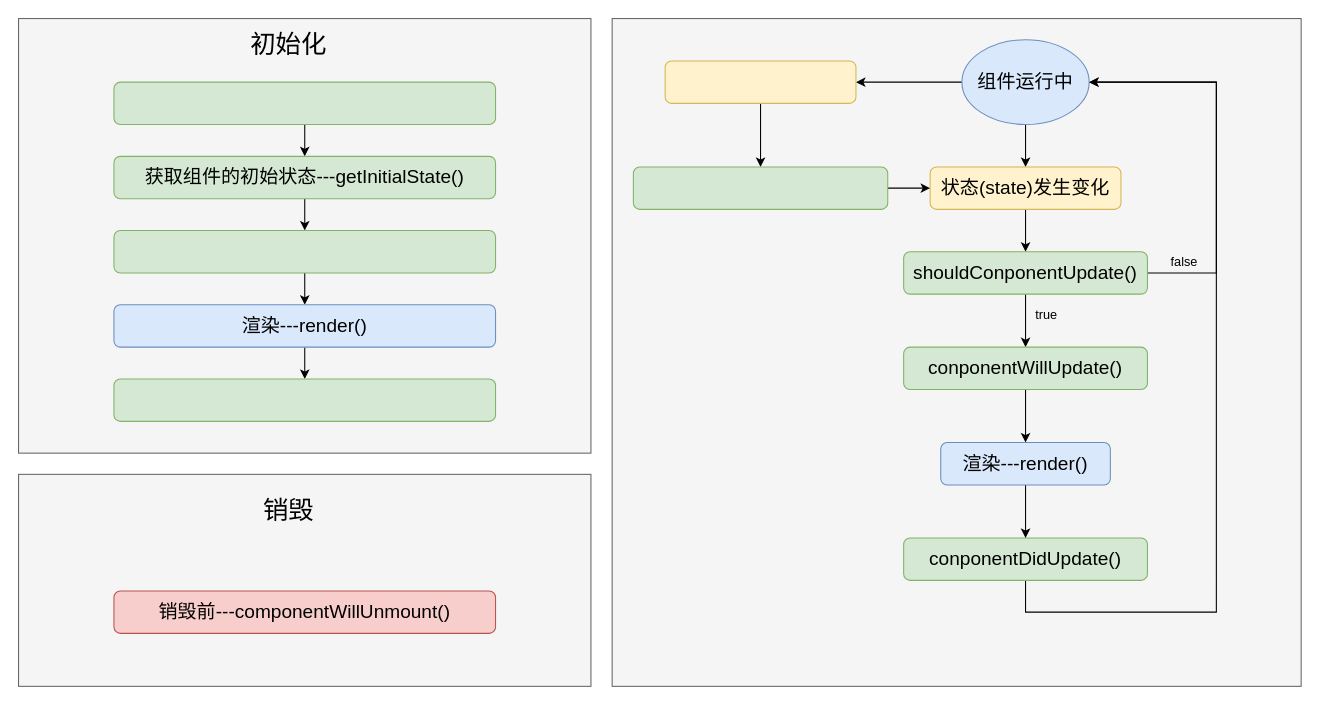
Image size: 1320x705. Some labels were removed from this diagram. Here are the shapes that lost their labels. From the top down, the centre of each, then its label:
At pixel 760 81: "属性(props)发生变化".
At pixel 304 103: "获取属性默认值---getDefaultProps()".
At pixel 760 187: "conponentWillReceiveProps()".
At pixel 304 251: "首次渲染前---componentWillMount()".
At pixel 304 399: "首次渲染后---componentDidMount()".
